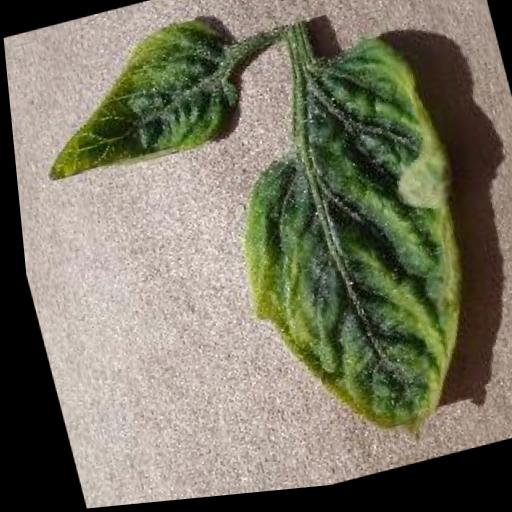Yellow Leaf Curl Virus: (192, 28, 506, 481), (11, 13, 245, 195)
